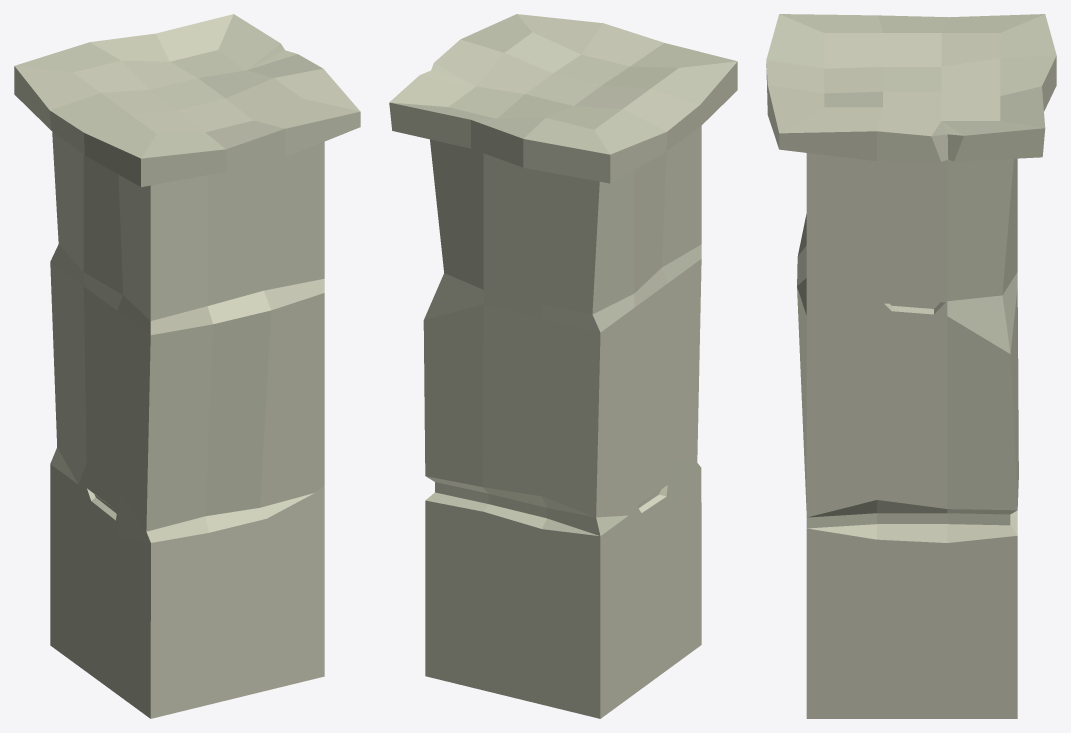
The model's file is colonne.fbx.
The picture shows the model from 3 angles, left to right: view 1: azimuth 30°, elevation 25°; view 2: azimuth 150°, elevation 25°; view 3: azimuth 270°, elevation 25°; orthographic projection. The views are drawn at different scales.
Parts seen in each view (by area): view 1: Cube; view 2: Cube; view 3: Cube.
Part boxes in pixels (x1=…): Cube: x1=14, y1=14, x2=360, y2=718; Cube: x1=389, y1=14, x2=737, y2=718; Cube: x1=766, y1=14, x2=1056, y2=718.
Size of the model in its own units: 218 by 500 by 218.
